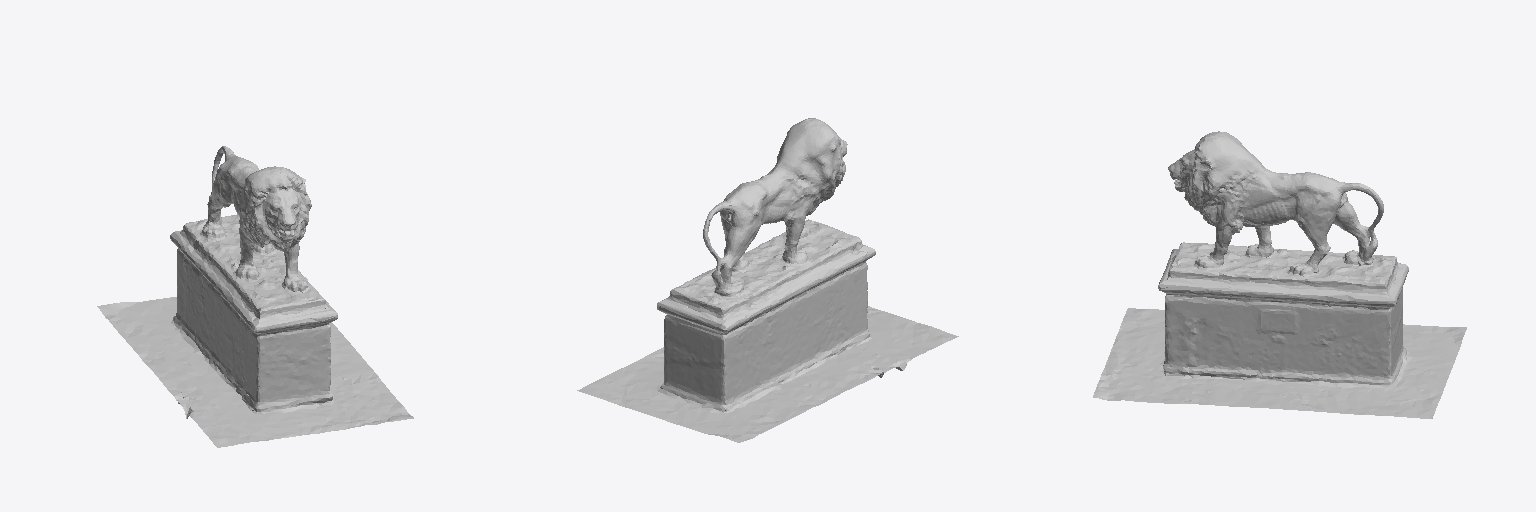
The model's file is Scholar's Lion.obj.
3 views of the same model, side by side, from view 1: azimuth 30°, elevation 25°; view 2: azimuth 150°, elevation 25°; view 3: azimuth 270°, elevation 25° (orthographic).
Visible parts, largest first — view 1: map_5618e6fe-a7b9-4d8b-861a-542754a0dea7_densified_mesh_tex; view 2: map_5618e6fe-a7b9-4d8b-861a-542754a0dea7_densified_mesh_tex; view 3: map_5618e6fe-a7b9-4d8b-861a-542754a0dea7_densified_mesh_tex.
Part boxes in pixels (left/top/right/bottom): map_5618e6fe-a7b9-4d8b-861a-542754a0dea7_densified_mesh_tex: left=97, top=146, right=413, bottom=447; map_5618e6fe-a7b9-4d8b-861a-542754a0dea7_densified_mesh_tex: left=577, top=118, right=958, bottom=442; map_5618e6fe-a7b9-4d8b-861a-542754a0dea7_densified_mesh_tex: left=1093, top=131, right=1466, bottom=418.
Bounding box in the file's own units: 2.58 × 2.45 × 3.64.